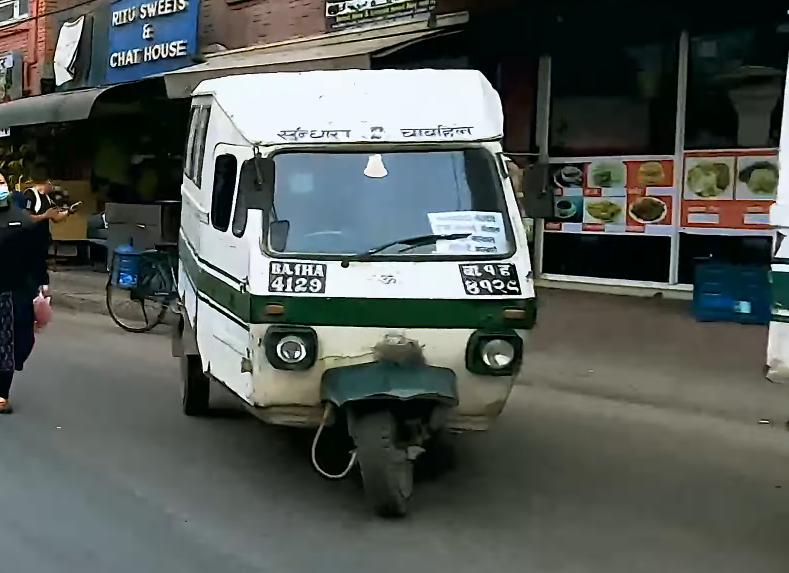tempo: (163, 60, 544, 528)
